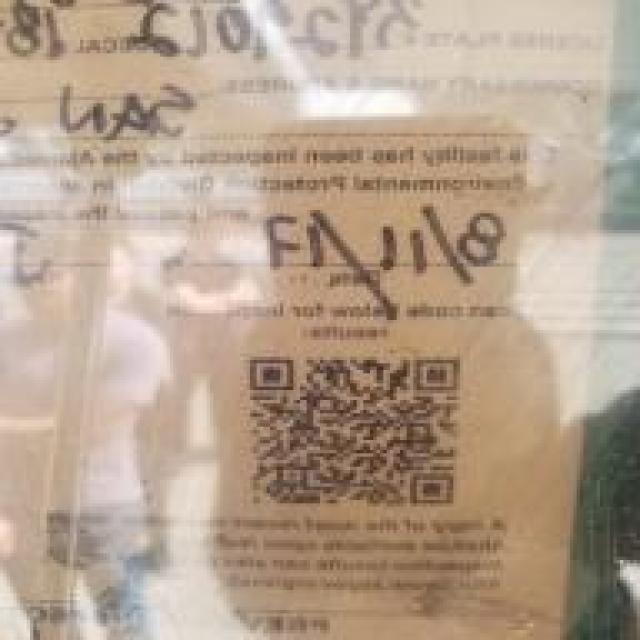QR_CODE: (233, 330, 490, 517)
